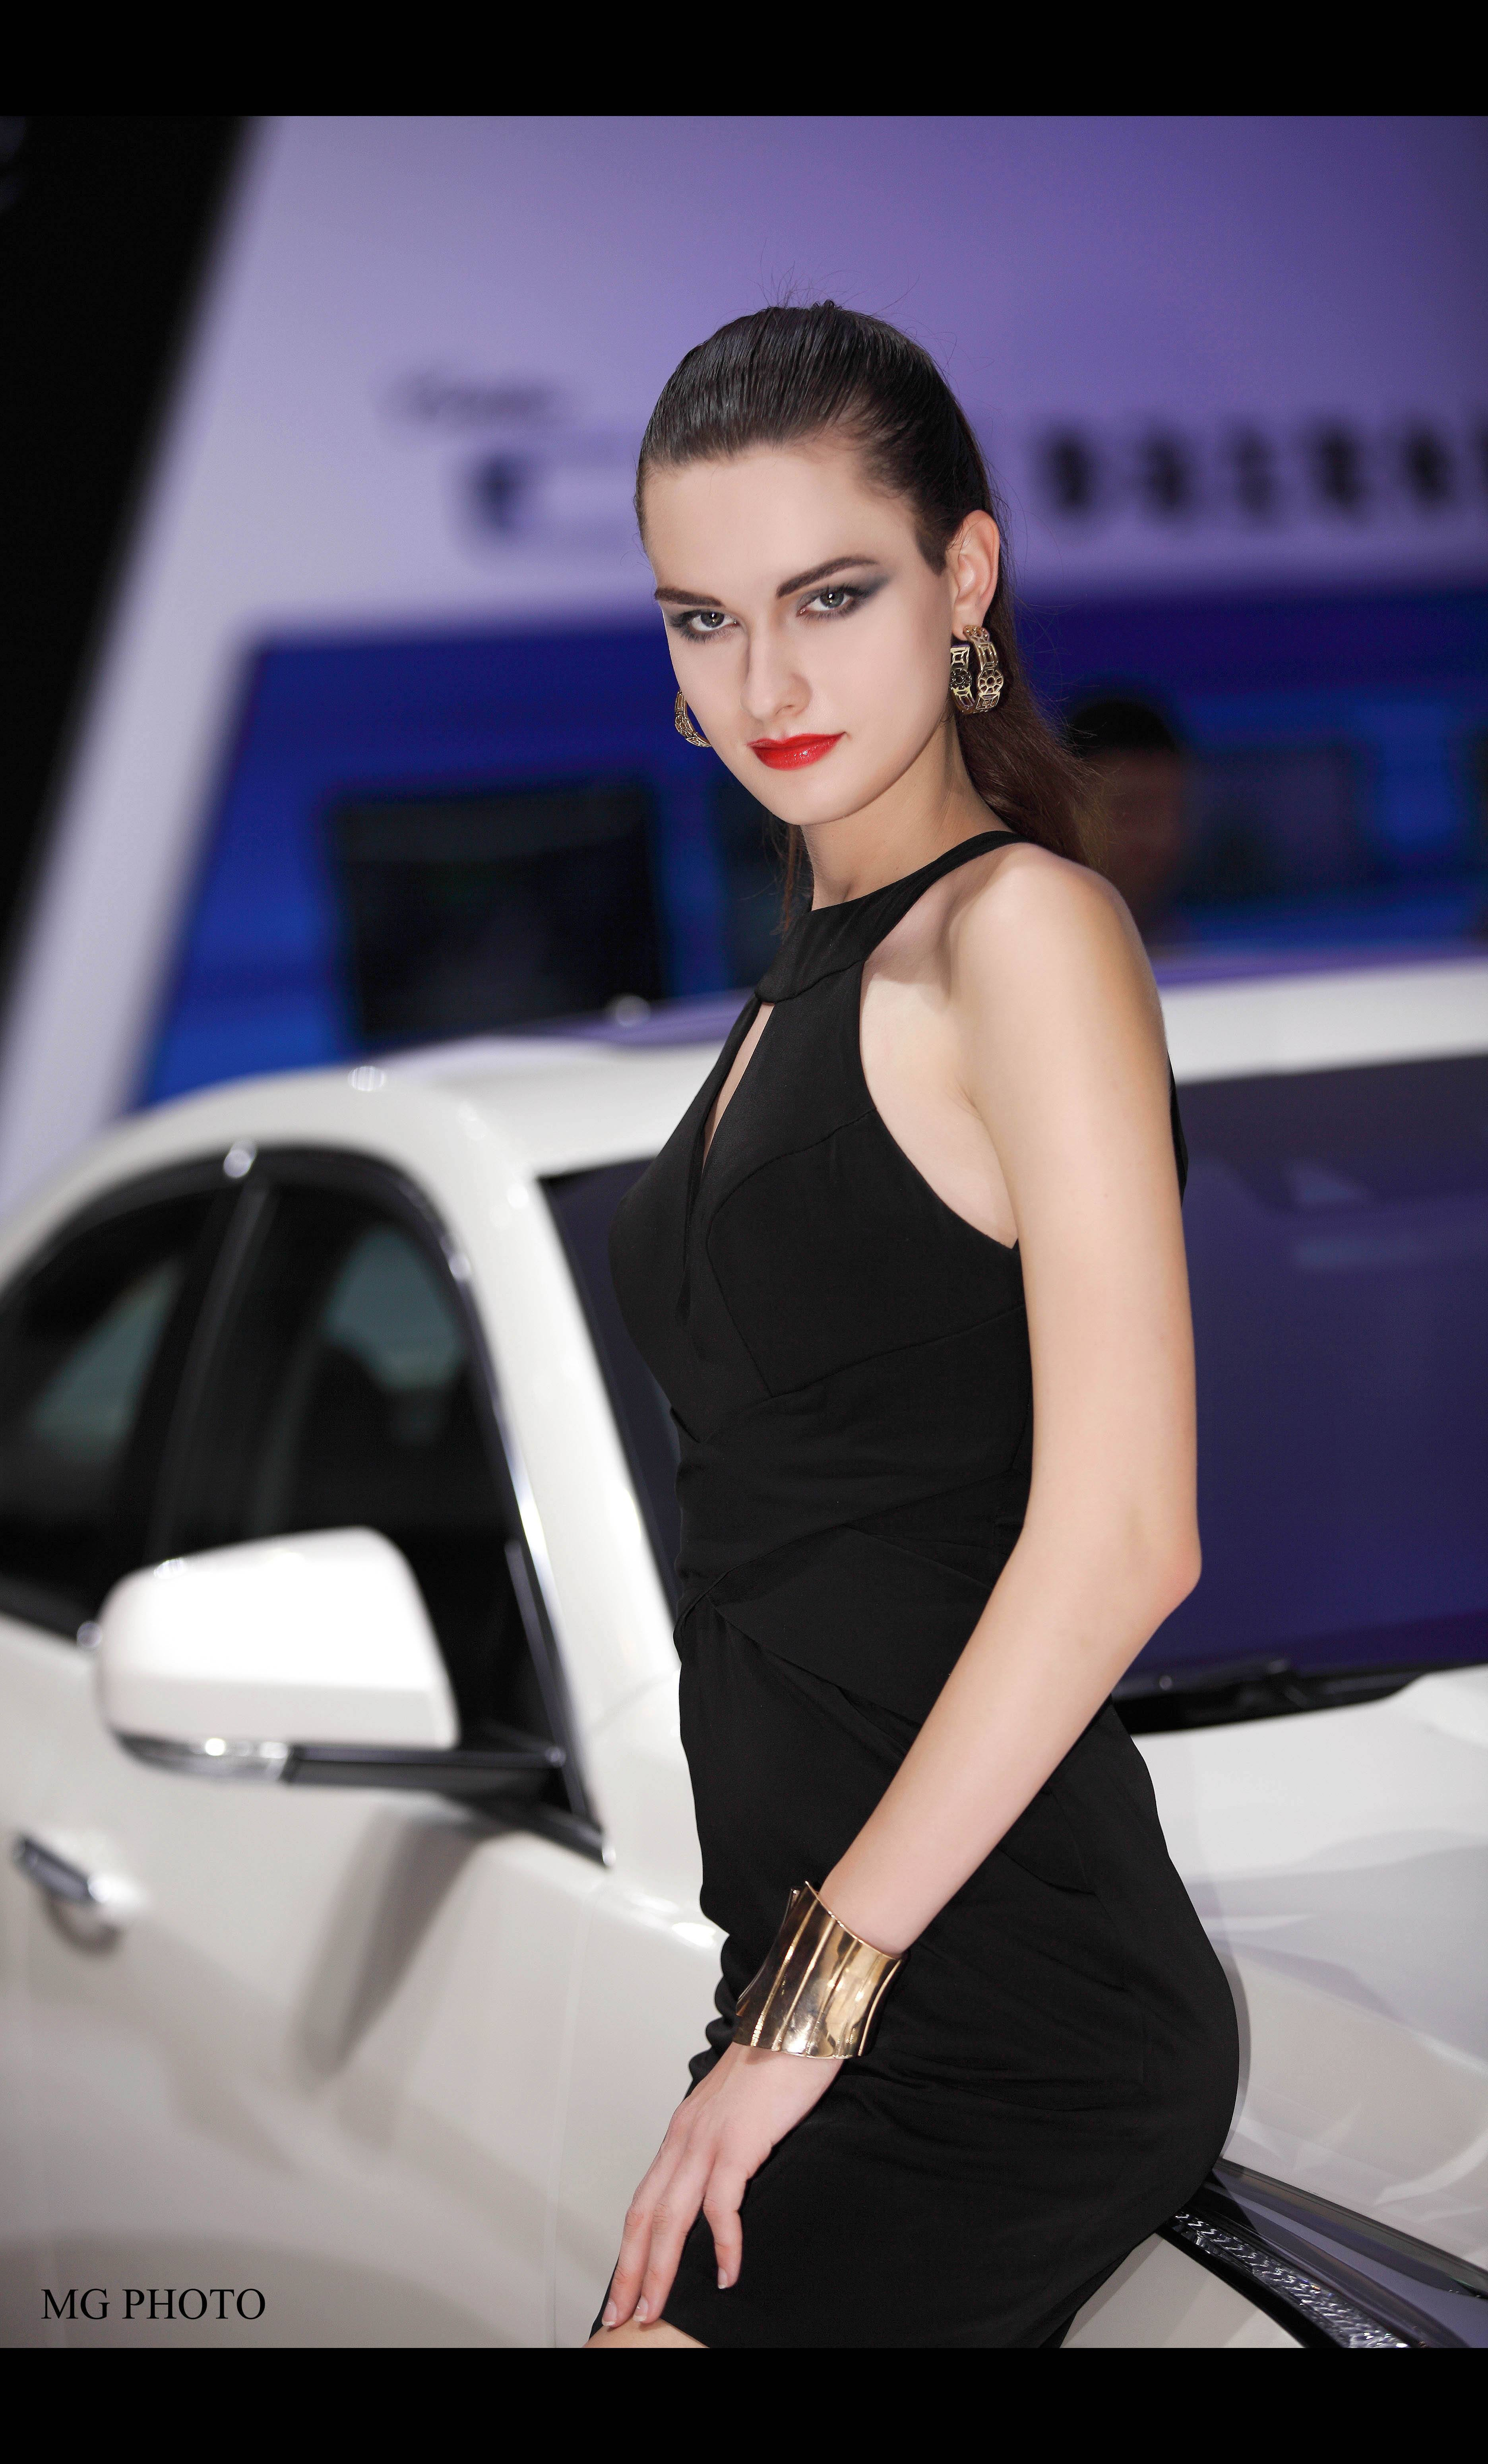person: (491, 323, 1148, 2350)
